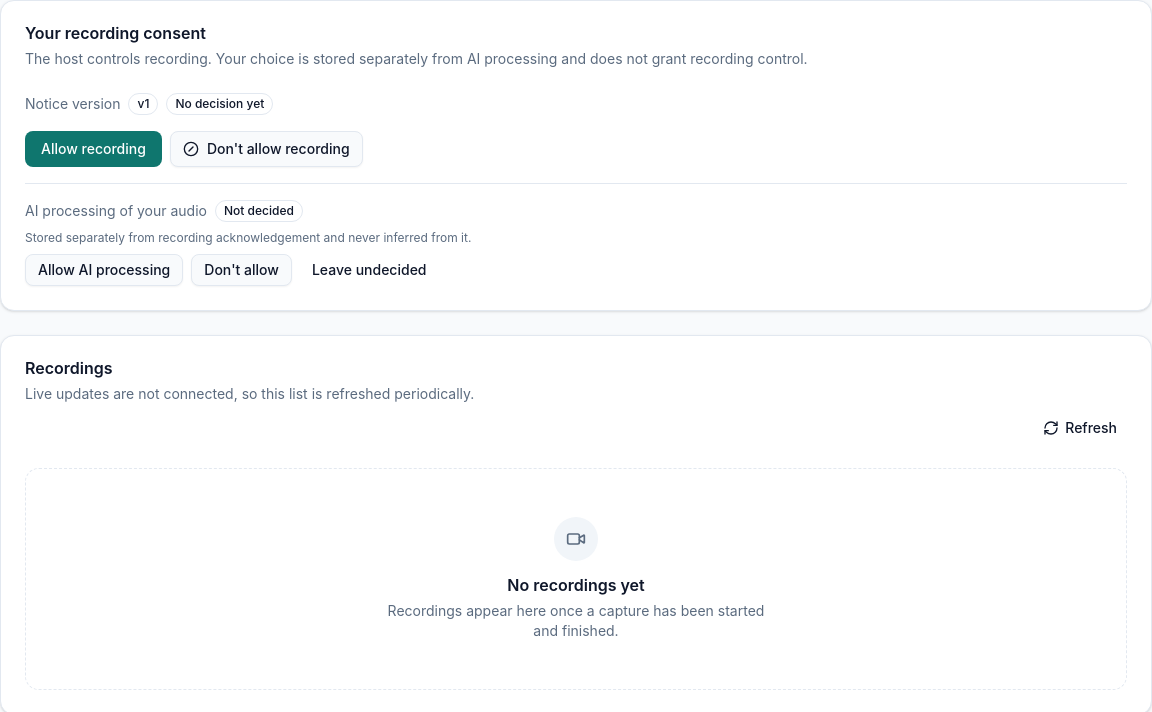
RecordingPanel consent › re-reads the notice when the server rejects a stale decision
Click the button with test id "consent-approve": (93, 149) 25,131 -> 162,167
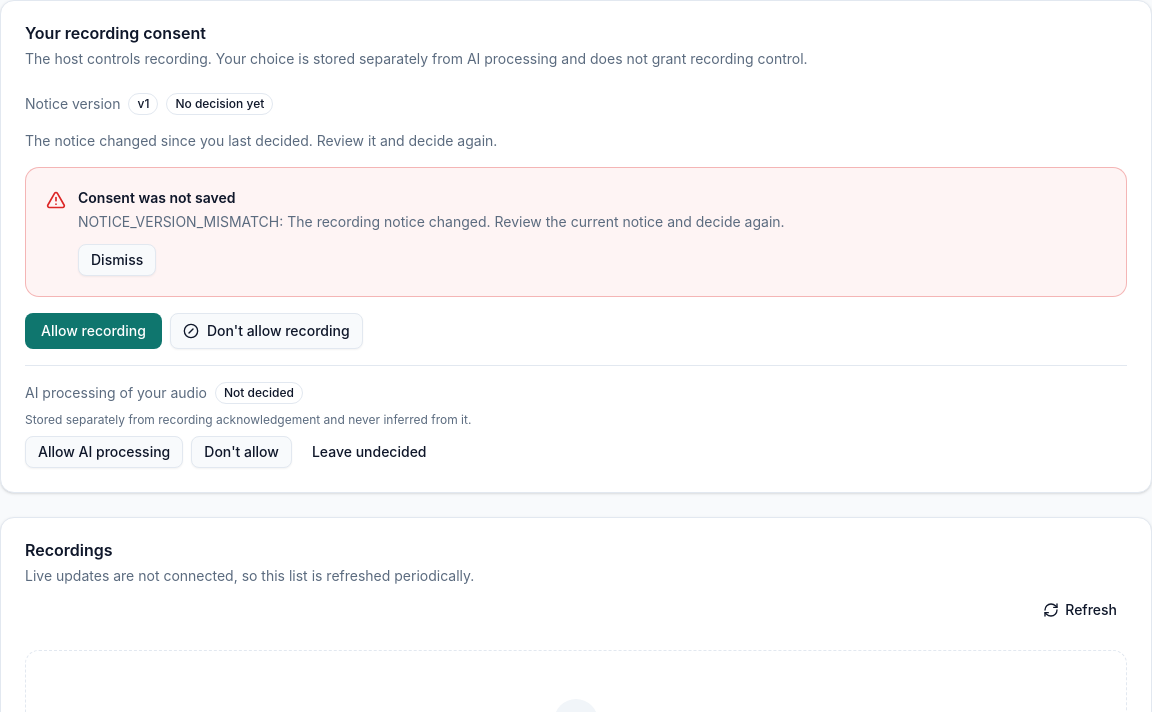
Now the text with test id "consent-notice-changed" is shown, box 25,132 -> 497,149
Now the text "The recording notice changed" is shown, box 78,213 -> 785,230
